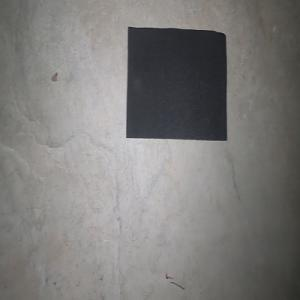PaintChip: (125, 26, 227, 141)
